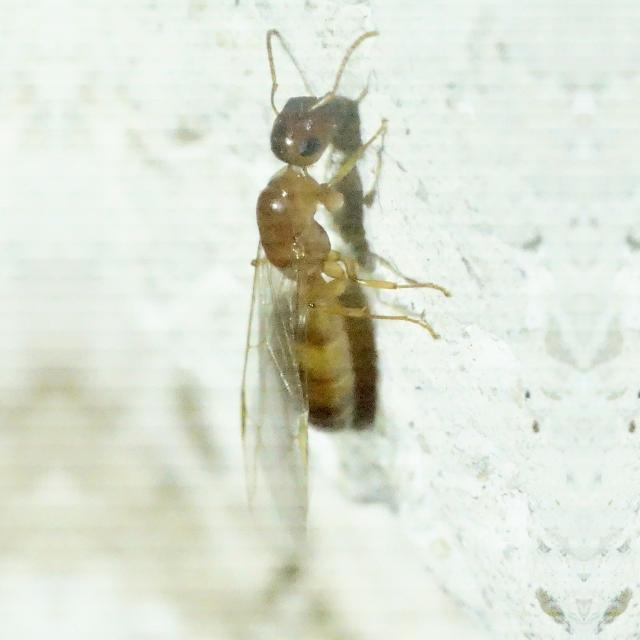Colobopsis: (218, 40, 422, 472)
